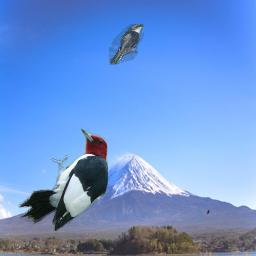Cuckoo: (109, 24, 144, 65)
Woodpecker: (18, 128, 108, 231)
